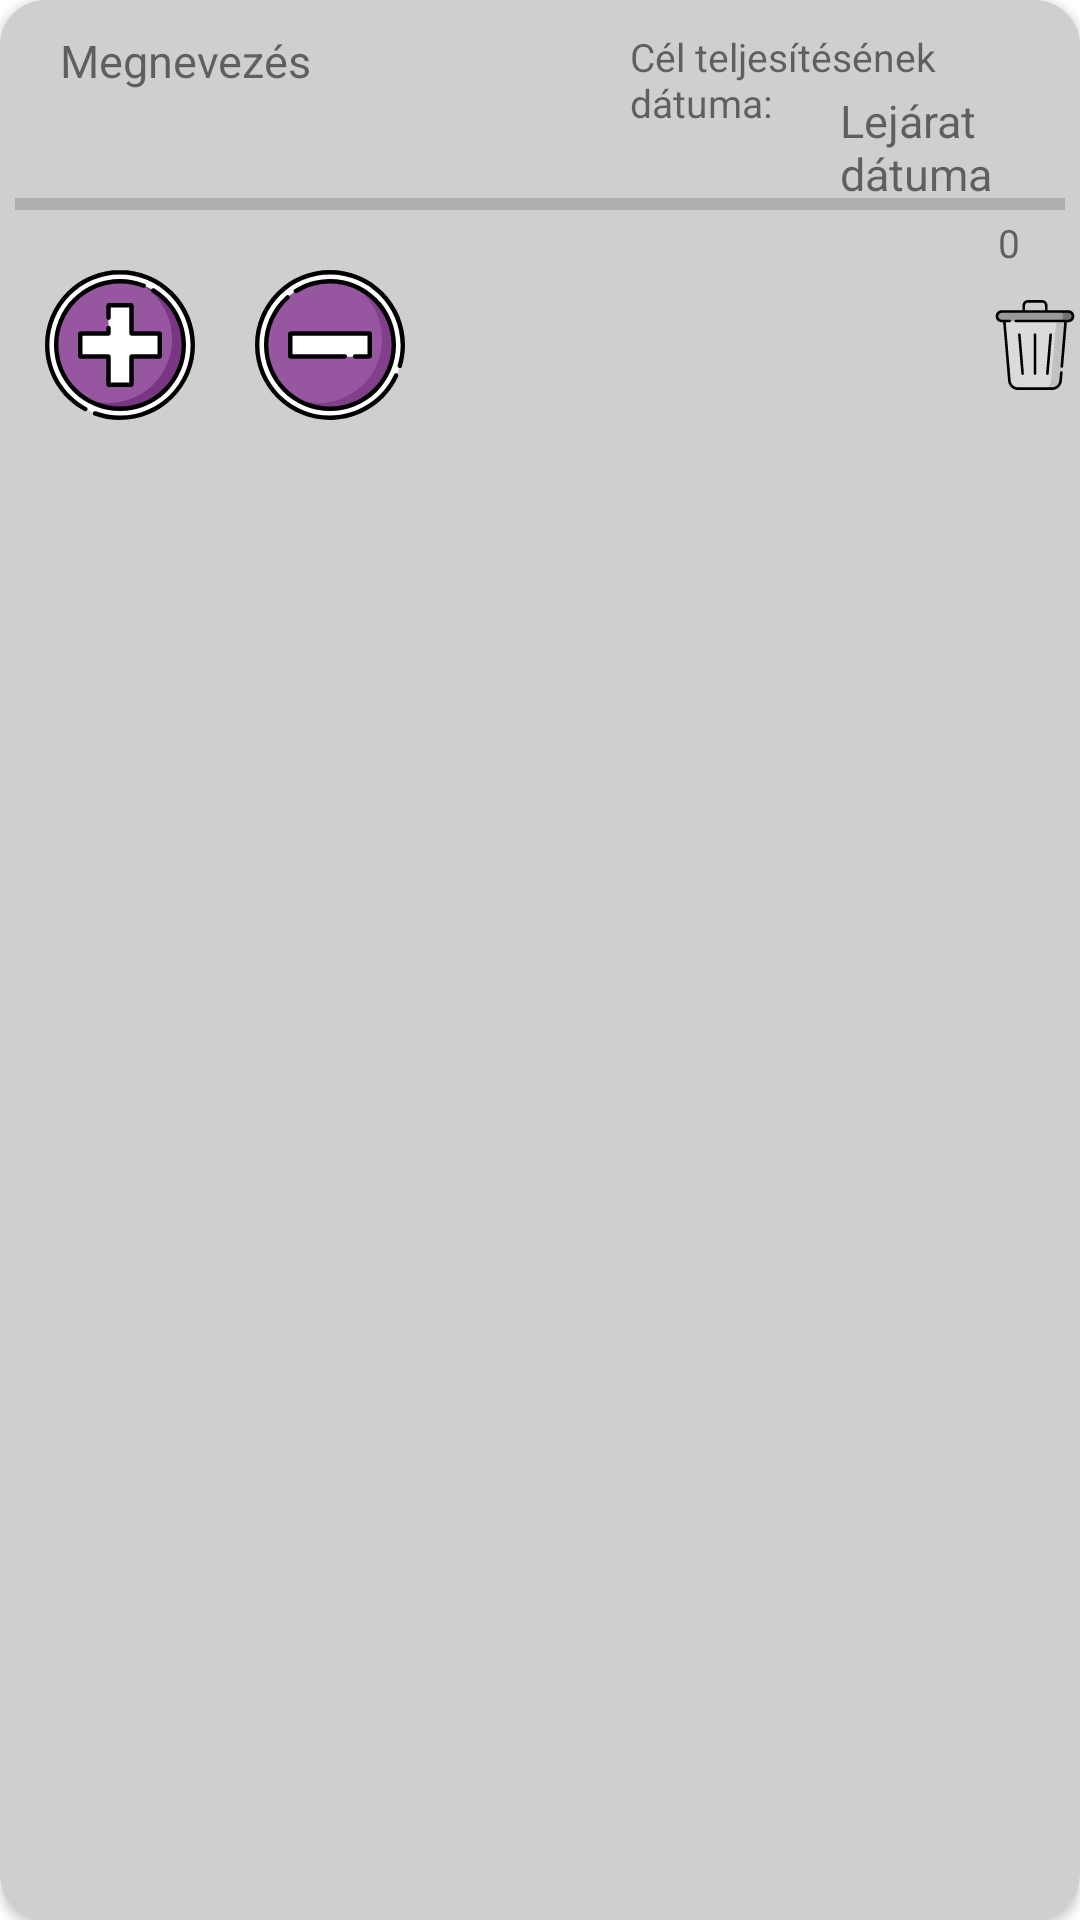

Screen size 1080w x 1920h. Icon name, then its box in pixels as (x1, y1, x2, y2):
minus: (255, 270, 405, 420)
plus: (45, 270, 195, 420)
trash: (995, 300, 1075, 390)
